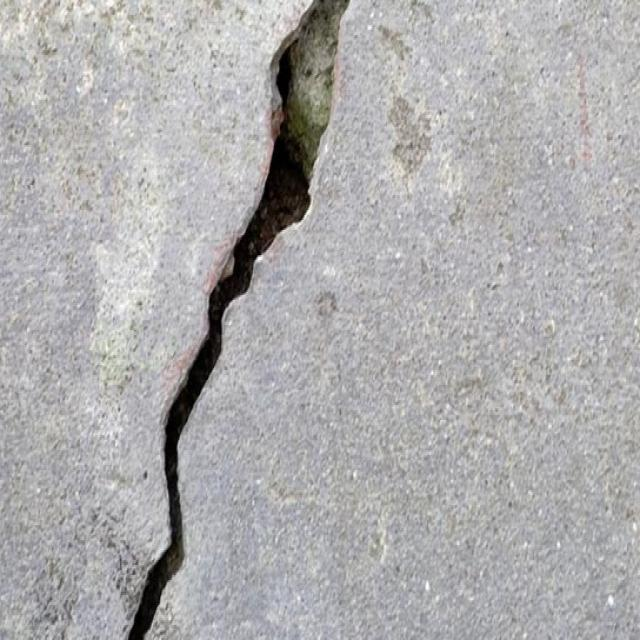crack: (125, 0, 353, 636)
